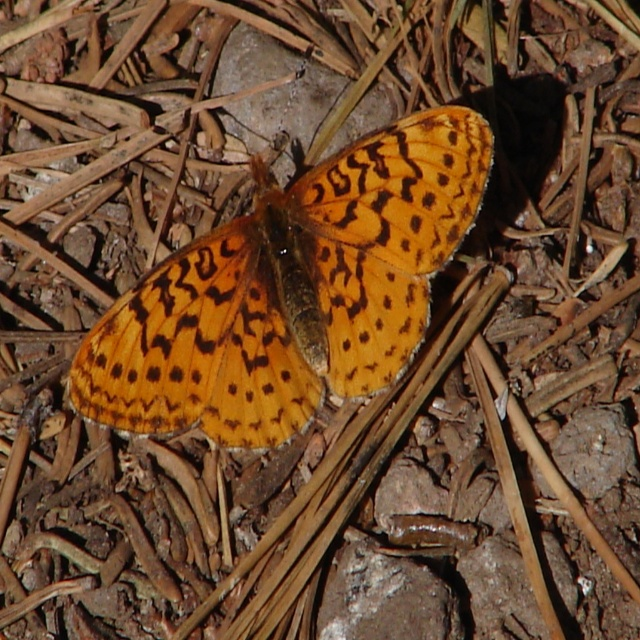Butterfly: (54, 86, 491, 473)
